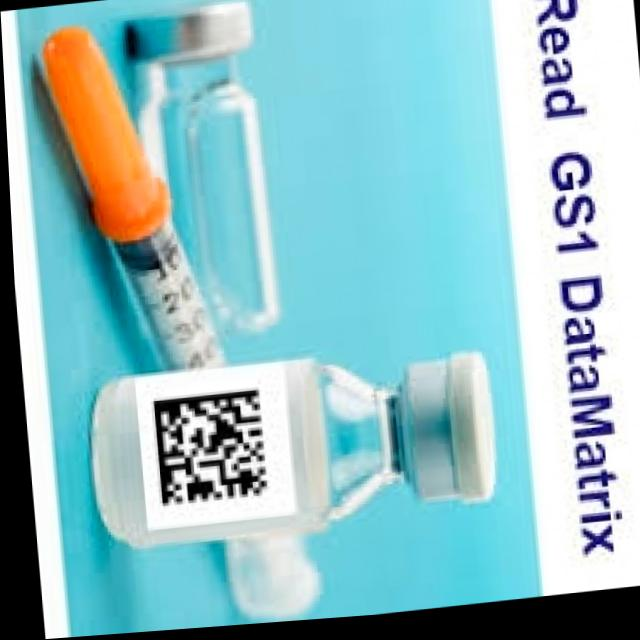datamatrix: (137, 385, 271, 519)
